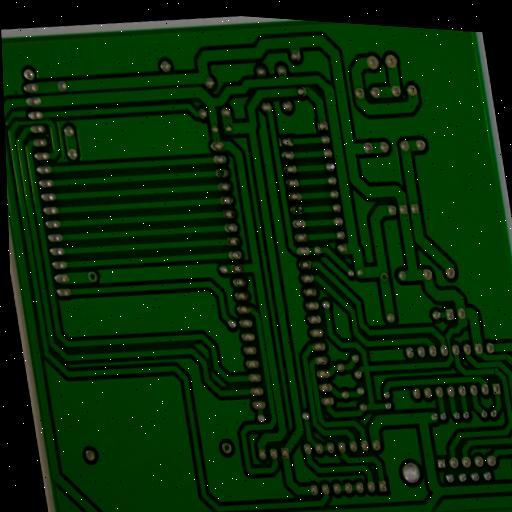missing_hole: (85, 267, 101, 286), (219, 439, 235, 456), (290, 202, 306, 219), (215, 165, 230, 182), (378, 270, 390, 284)
